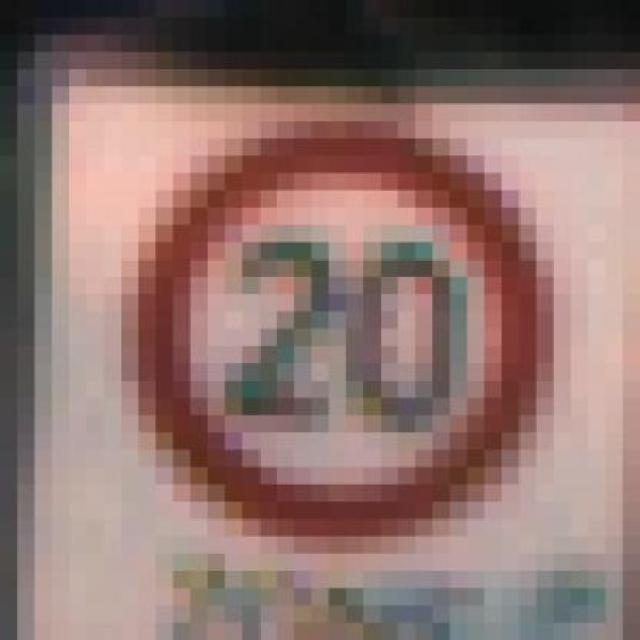forb_speed_over_20: (140, 126, 548, 534)
